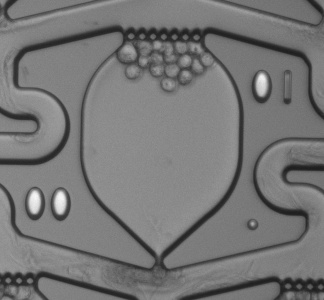AptNum: (247, 63, 307, 111)
Marker: (243, 214, 265, 235)
StNum: (17, 178, 81, 229)
Trap: (130, 257, 186, 300)
